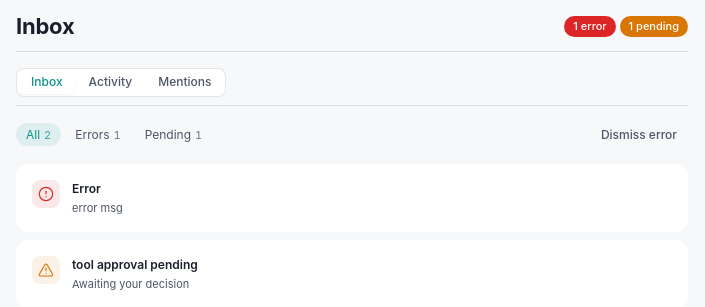
Scenario: NotificationsView › filter buttons switch visible items (Errors only)
Check: the text "error msg" is shown, box [72,201,123,215]
Check: the text "tool approval pending" is shown, box [72,257,198,272]
Click the button "Errors 1" at (98, 135), box [65,123,131,146]
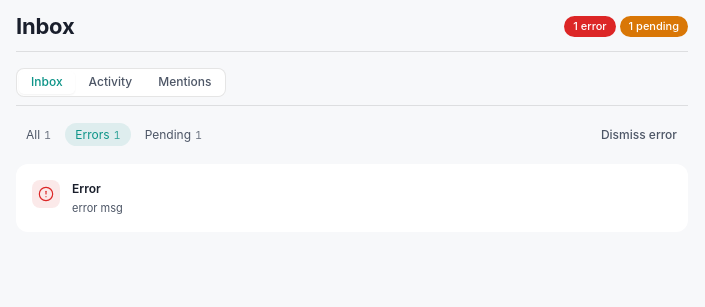
Check: the text "error msg" is shown, box [72,201,123,215]
Check: the text "approval pending" is gone
